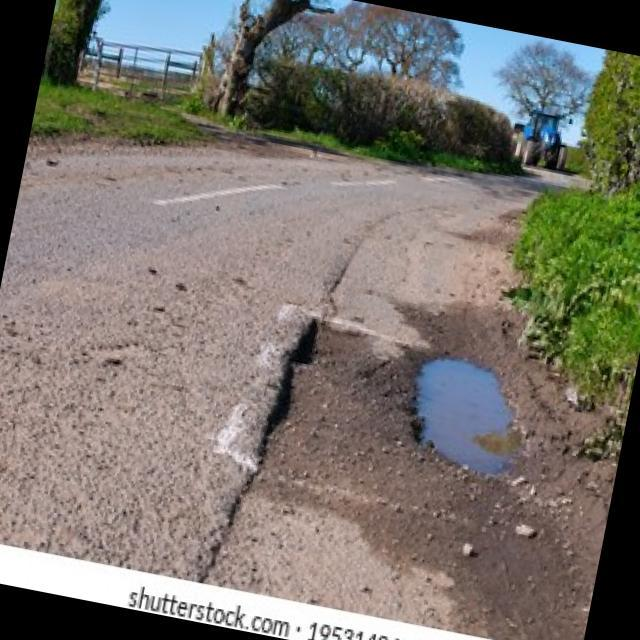Pothole: (387, 326, 564, 498)
